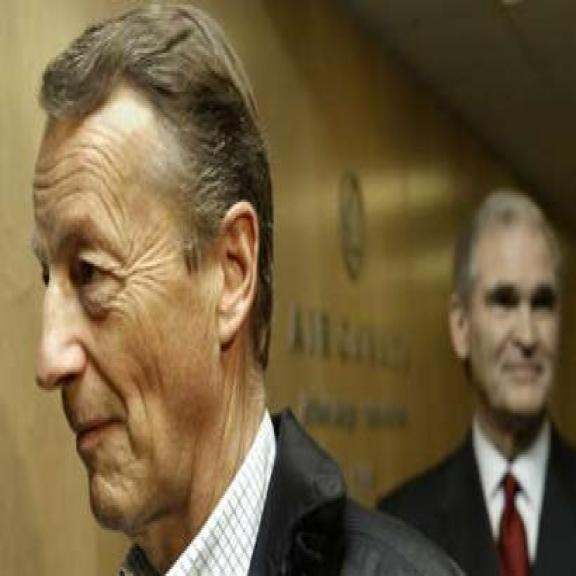face: (26, 107, 262, 538), (447, 219, 562, 420)
